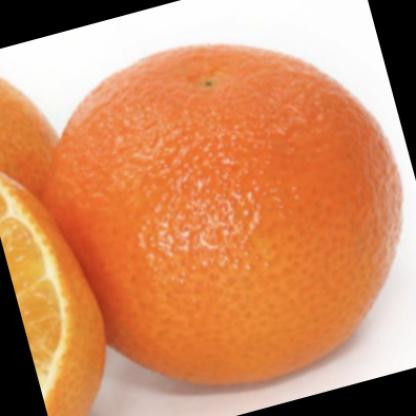fresh: (45, 44, 404, 390)
